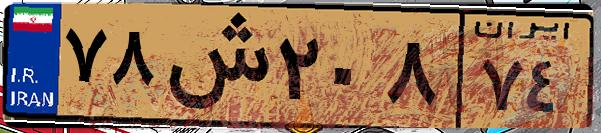0: (330, 28, 385, 110)
2: (270, 28, 330, 110)
4: (525, 38, 570, 115)
7: (57, 26, 110, 100), (475, 38, 525, 113)
8: (385, 28, 445, 110), (110, 28, 158, 98)
ش: (158, 12, 270, 120)
